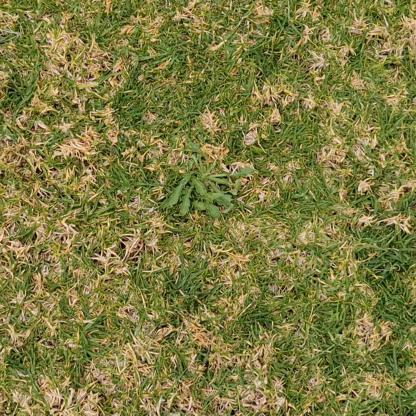Weeds: (170, 142, 255, 218)
